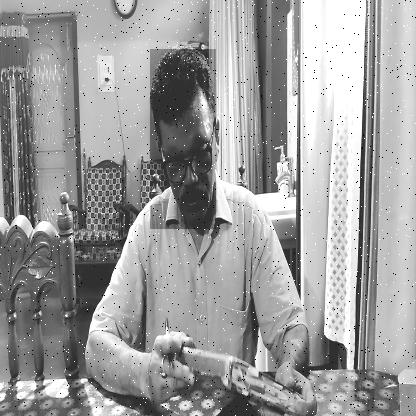Normal: (150, 49, 216, 229)
